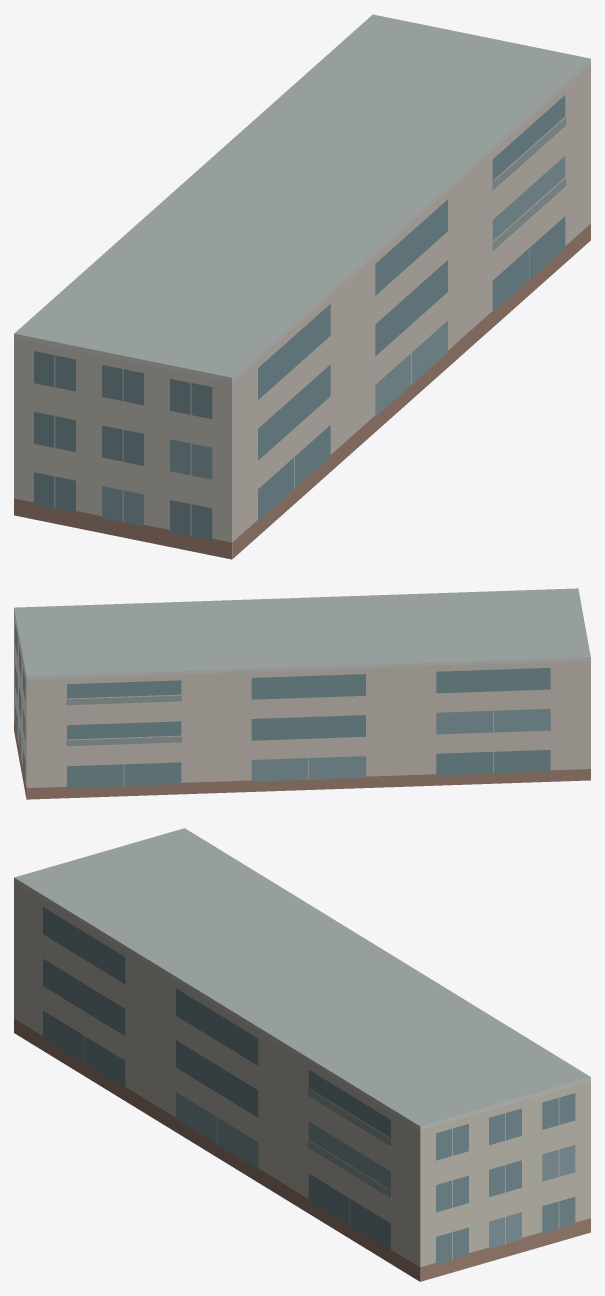
The model's file is survey-upis-32686440.glb.
3 views of the same model, one above another, from view 1: azimuth 30°, elevation 25°; view 2: azimuth 150°, elevation 25°; view 3: azimuth 270°, elevation 25° (orthographic). The views are drawn at different scales.
Visible parts, largest first — view 1: survey-upis-32686440.tmp; view 2: survey-upis-32686440.tmp; view 3: survey-upis-32686440.tmp.
Boxes of the visible parts, x1,y1,x2,y2 form: survey-upis-32686440.tmp: (14,14,590,559); survey-upis-32686440.tmp: (14,588,590,799); survey-upis-32686440.tmp: (14,828,590,1281).
Size of the model in its own units: 37.64 by 9.15 by 30.77.
